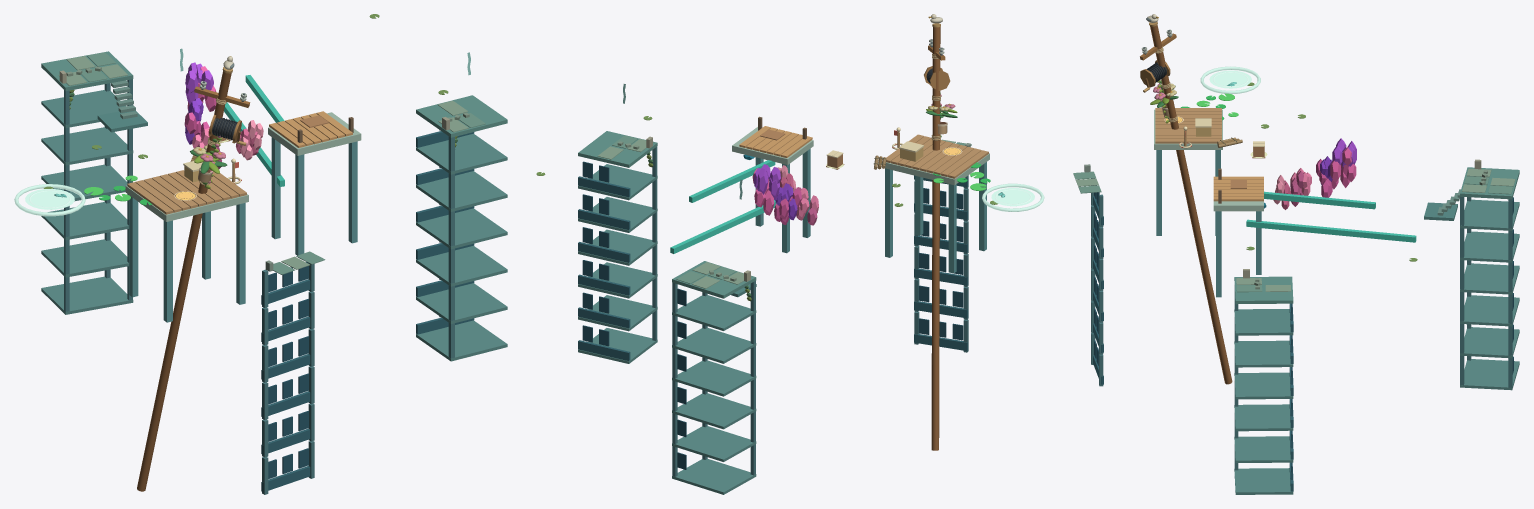
The model's file is detail.glb.
The picture shows the model from 3 angles, left to right: view 1: azimuth 30°, elevation 25°; view 2: azimuth 150°, elevation 25°; view 3: azimuth 270°, elevation 25°; orthographic projection. The views are drawn at different scales.
Visible parts, largest first — view 1: detail; view 2: detail; view 3: detail.
Boxes of the visible parts, x1,y1,x2,y2 form: detail: (14, 14, 507, 494); detail: (536, 14, 1044, 494); detail: (1073, 14, 1519, 494).
Bounding box in the file's own units: 38.56 × 34.08 × 35.58.
